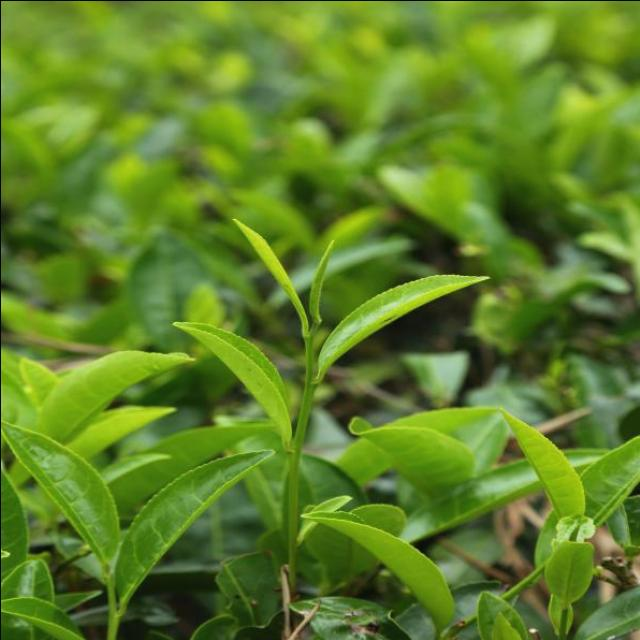Stem: (109, 611, 118, 623), (304, 335, 312, 346)
